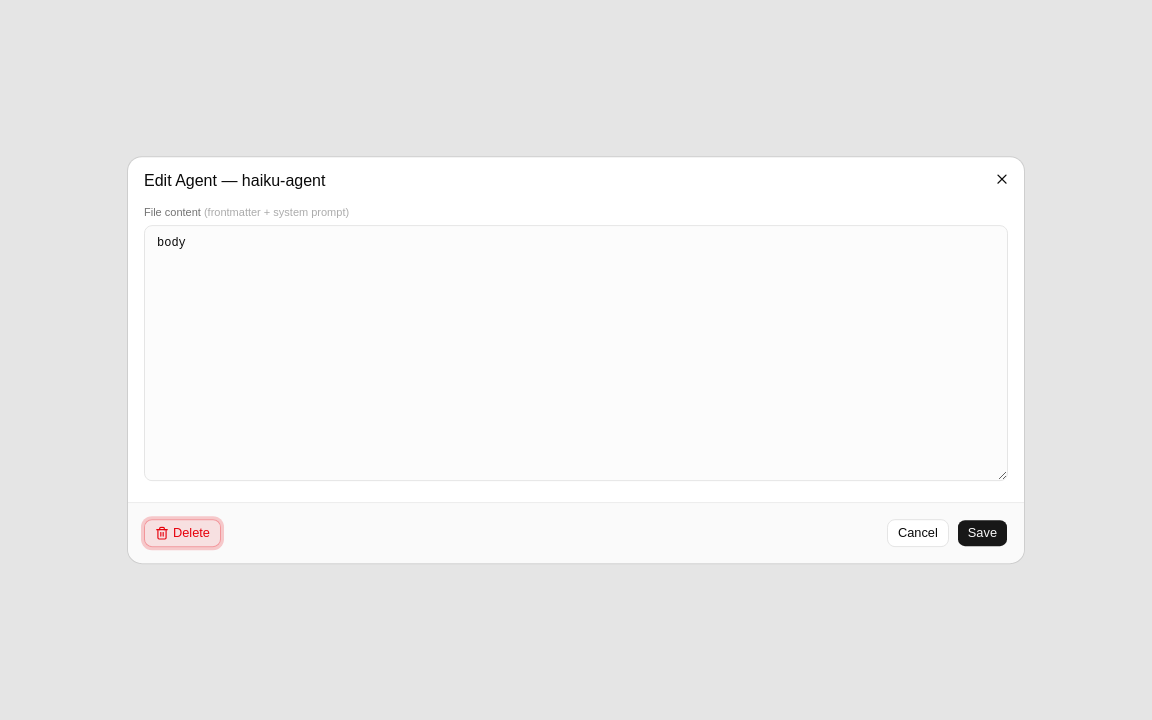
AgentEditorModal — edit existing agent › shows error when writeAgentFile rejects
Expected: the text box showing "body" is shown, [144,225,1008,481]
Click the button "Save" at [982, 533], box [957,519,1008,547]
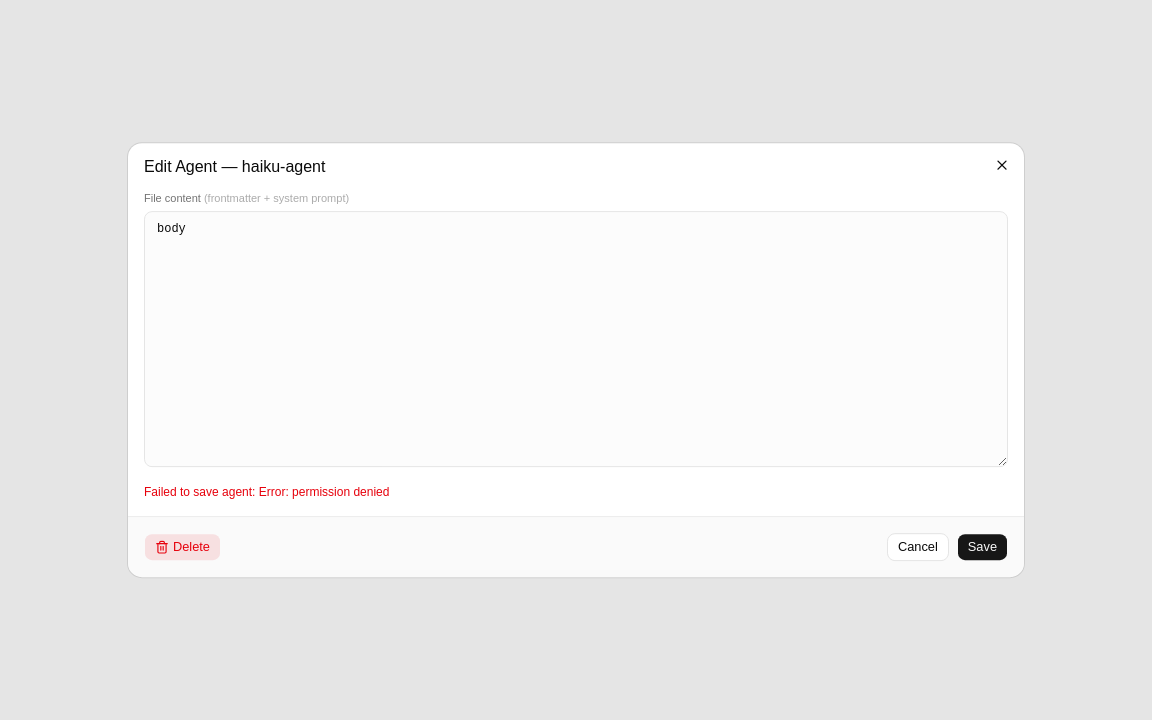
Result: the text "Failed to save agent: Error: permission denied" is shown at [144,485,390,499]
